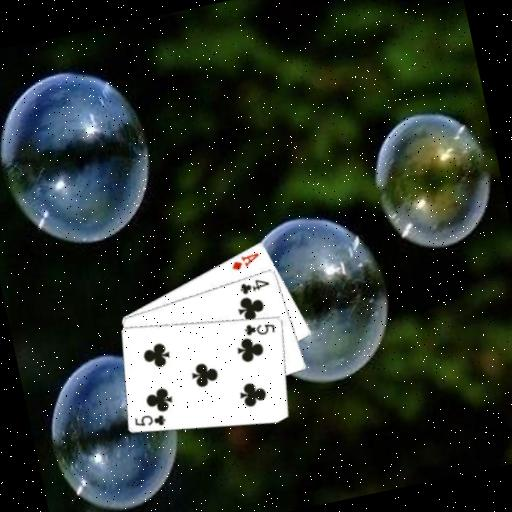4C: (235, 273, 272, 296)
5C: (130, 408, 169, 433), (240, 316, 278, 340)
AD: (226, 248, 263, 273)
